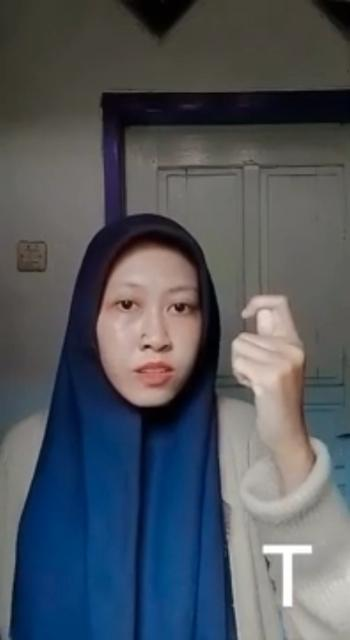T: (233, 294, 308, 401)
